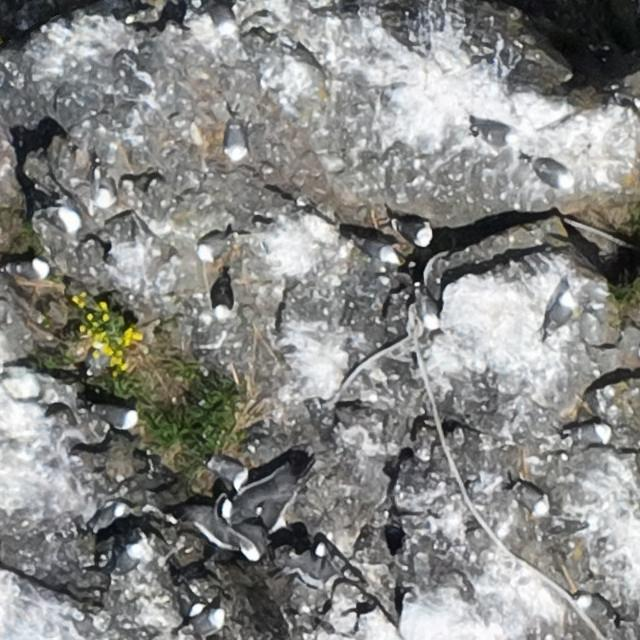F: (216, 459, 306, 552), (286, 542, 348, 587)
umineko: (211, 269, 235, 322), (417, 278, 441, 329), (392, 219, 429, 244), (96, 406, 138, 427), (212, 462, 246, 486), (193, 608, 224, 633), (537, 164, 569, 188), (357, 240, 394, 260), (93, 505, 121, 530), (198, 235, 226, 259), (578, 596, 611, 616), (520, 486, 546, 511), (11, 261, 47, 279), (574, 424, 606, 444), (551, 296, 572, 326), (226, 123, 244, 157), (477, 126, 511, 142)
